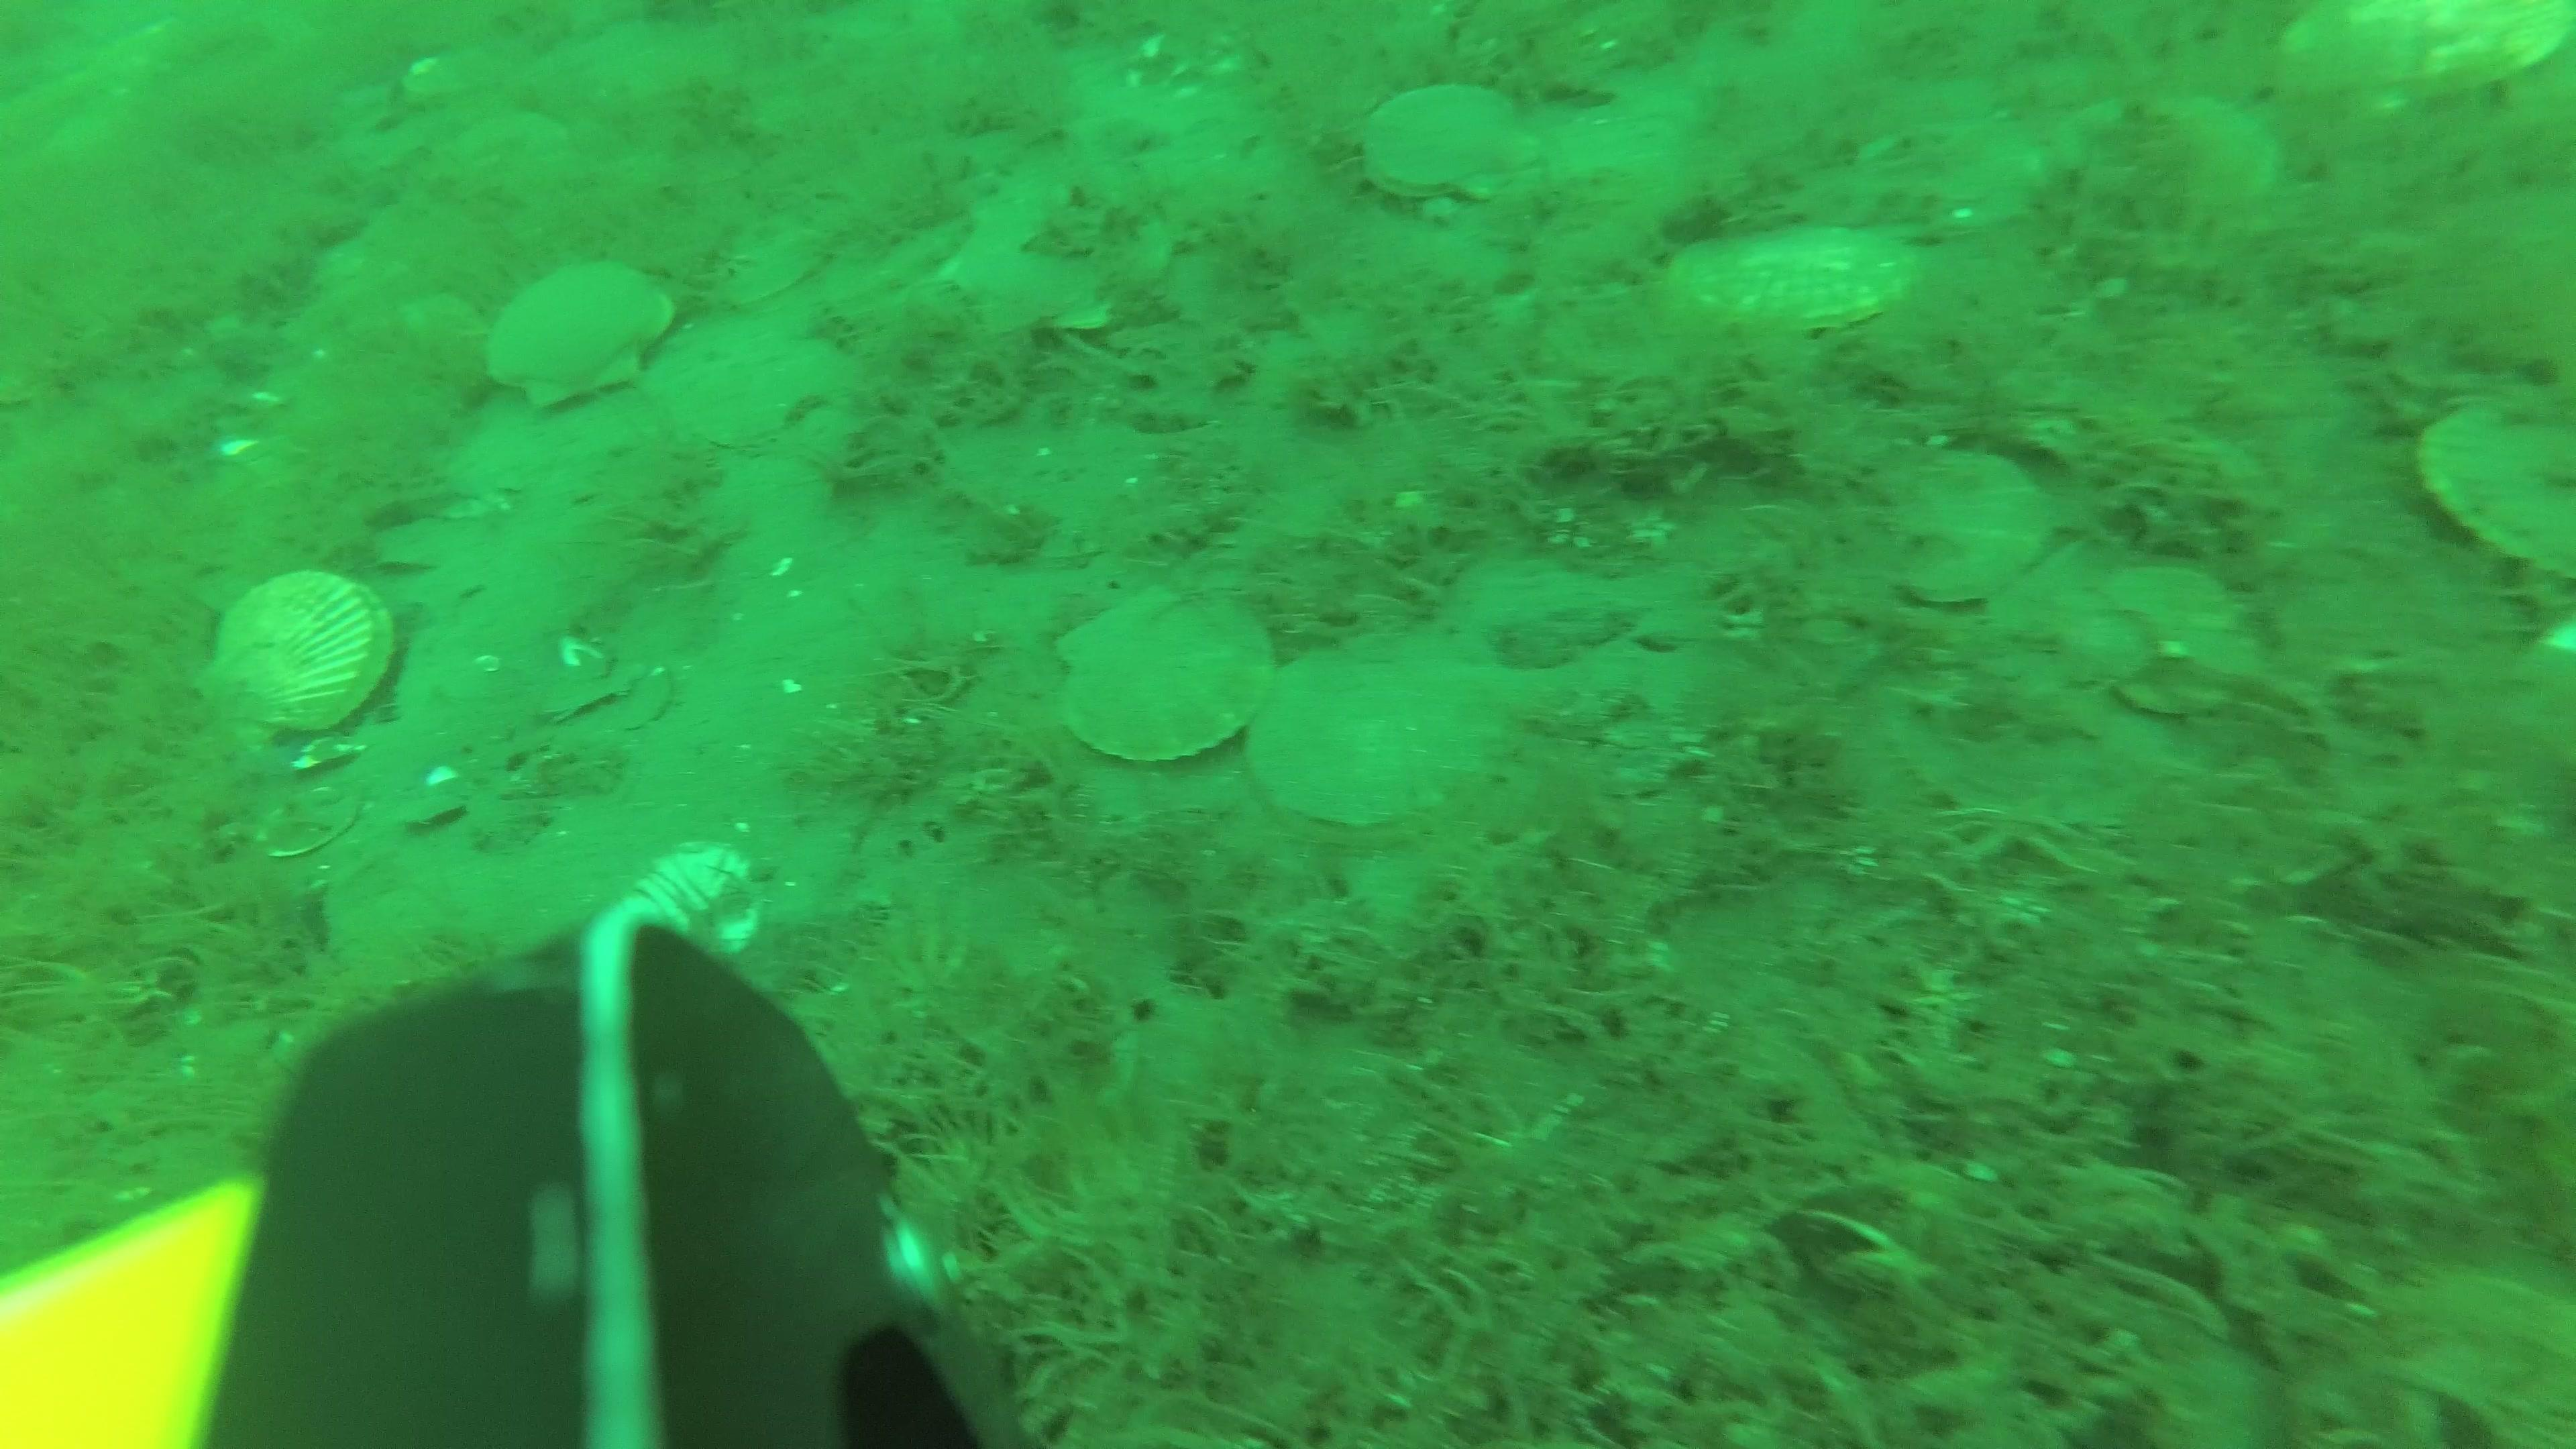scallop: (1249, 621, 1500, 828), (2371, 1269, 2576, 1449), (952, 179, 1169, 347), (2275, 4, 2576, 117), (1069, 594, 1277, 755), (202, 575, 393, 740), (1672, 216, 1928, 336), (2415, 400, 2576, 591), (487, 258, 678, 409), (1897, 449, 2054, 610), (2051, 96, 2279, 205), (1348, 83, 1543, 203), (632, 849, 766, 959)
